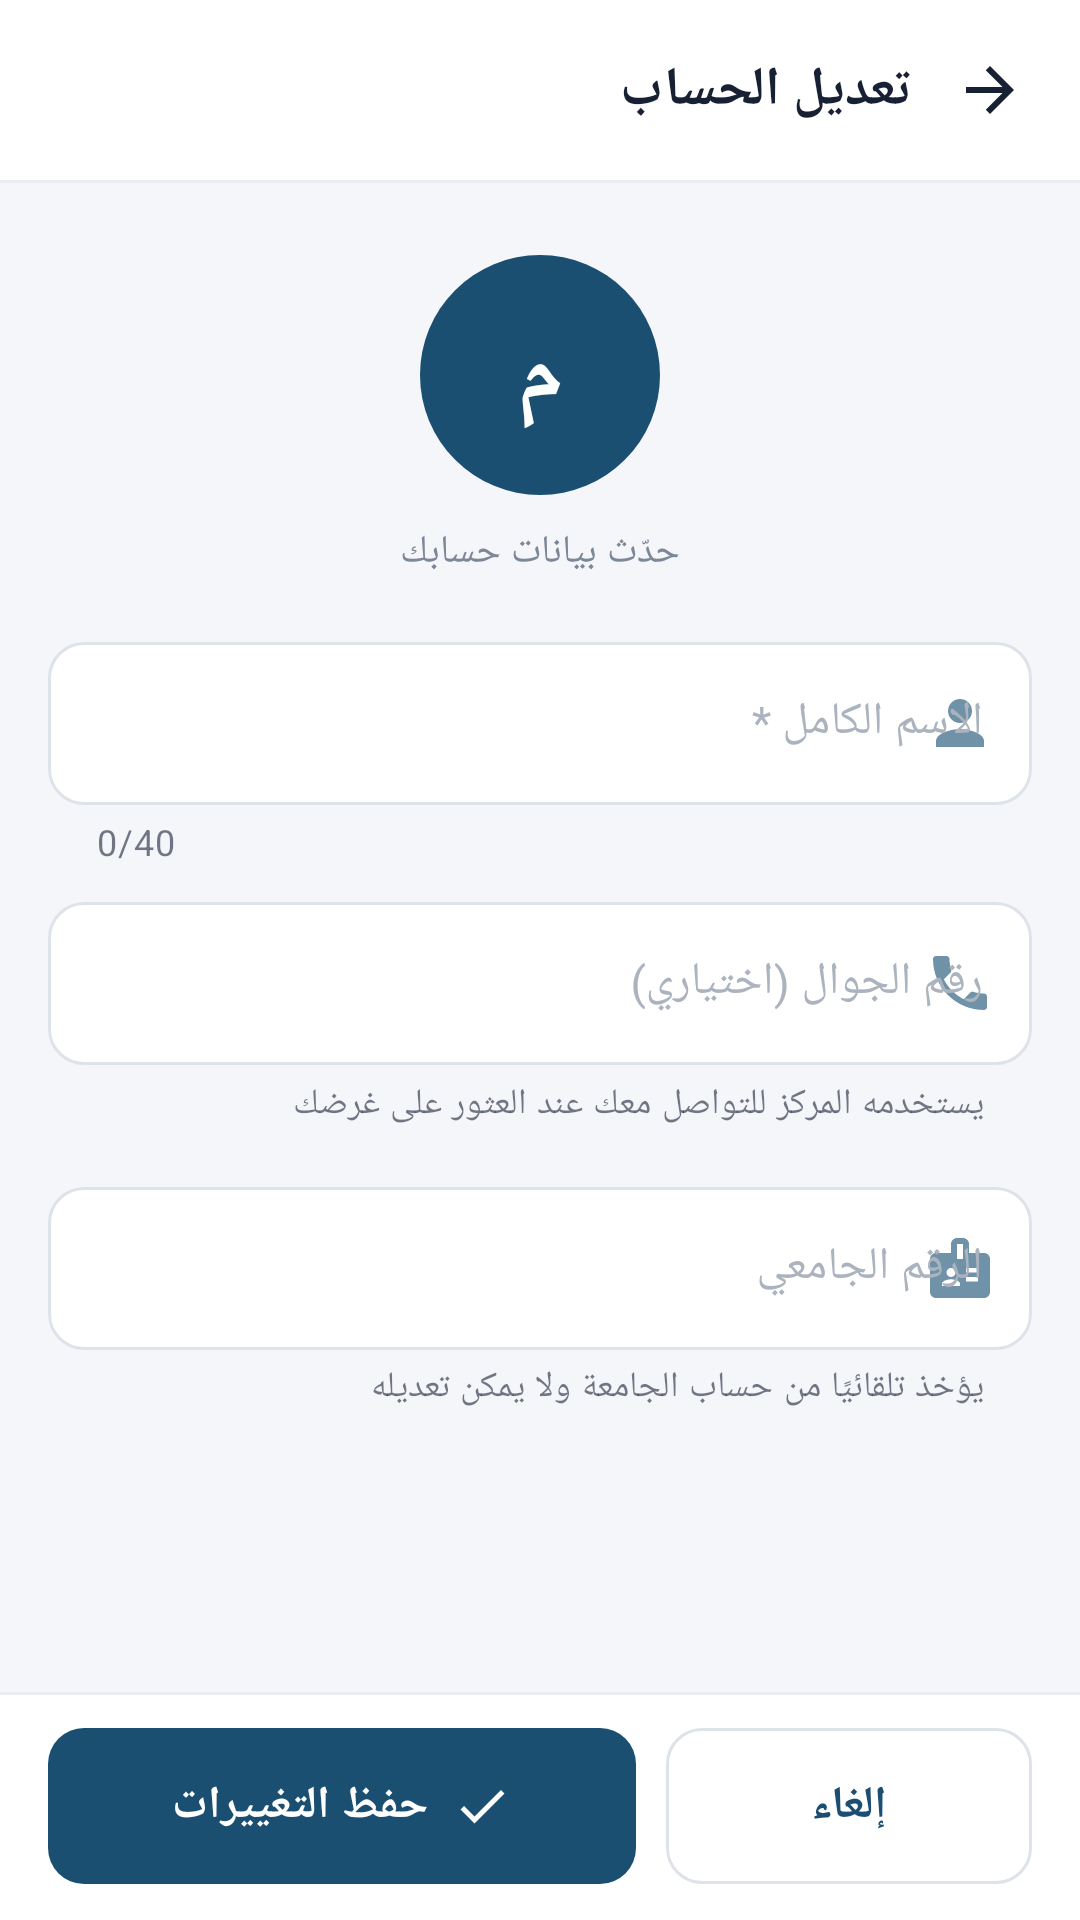

Icons on this 1080px x 1920px Android screen, each with its box as (x1, y1, x2, y2):
رجوع: (966, 66, 1014, 114)
